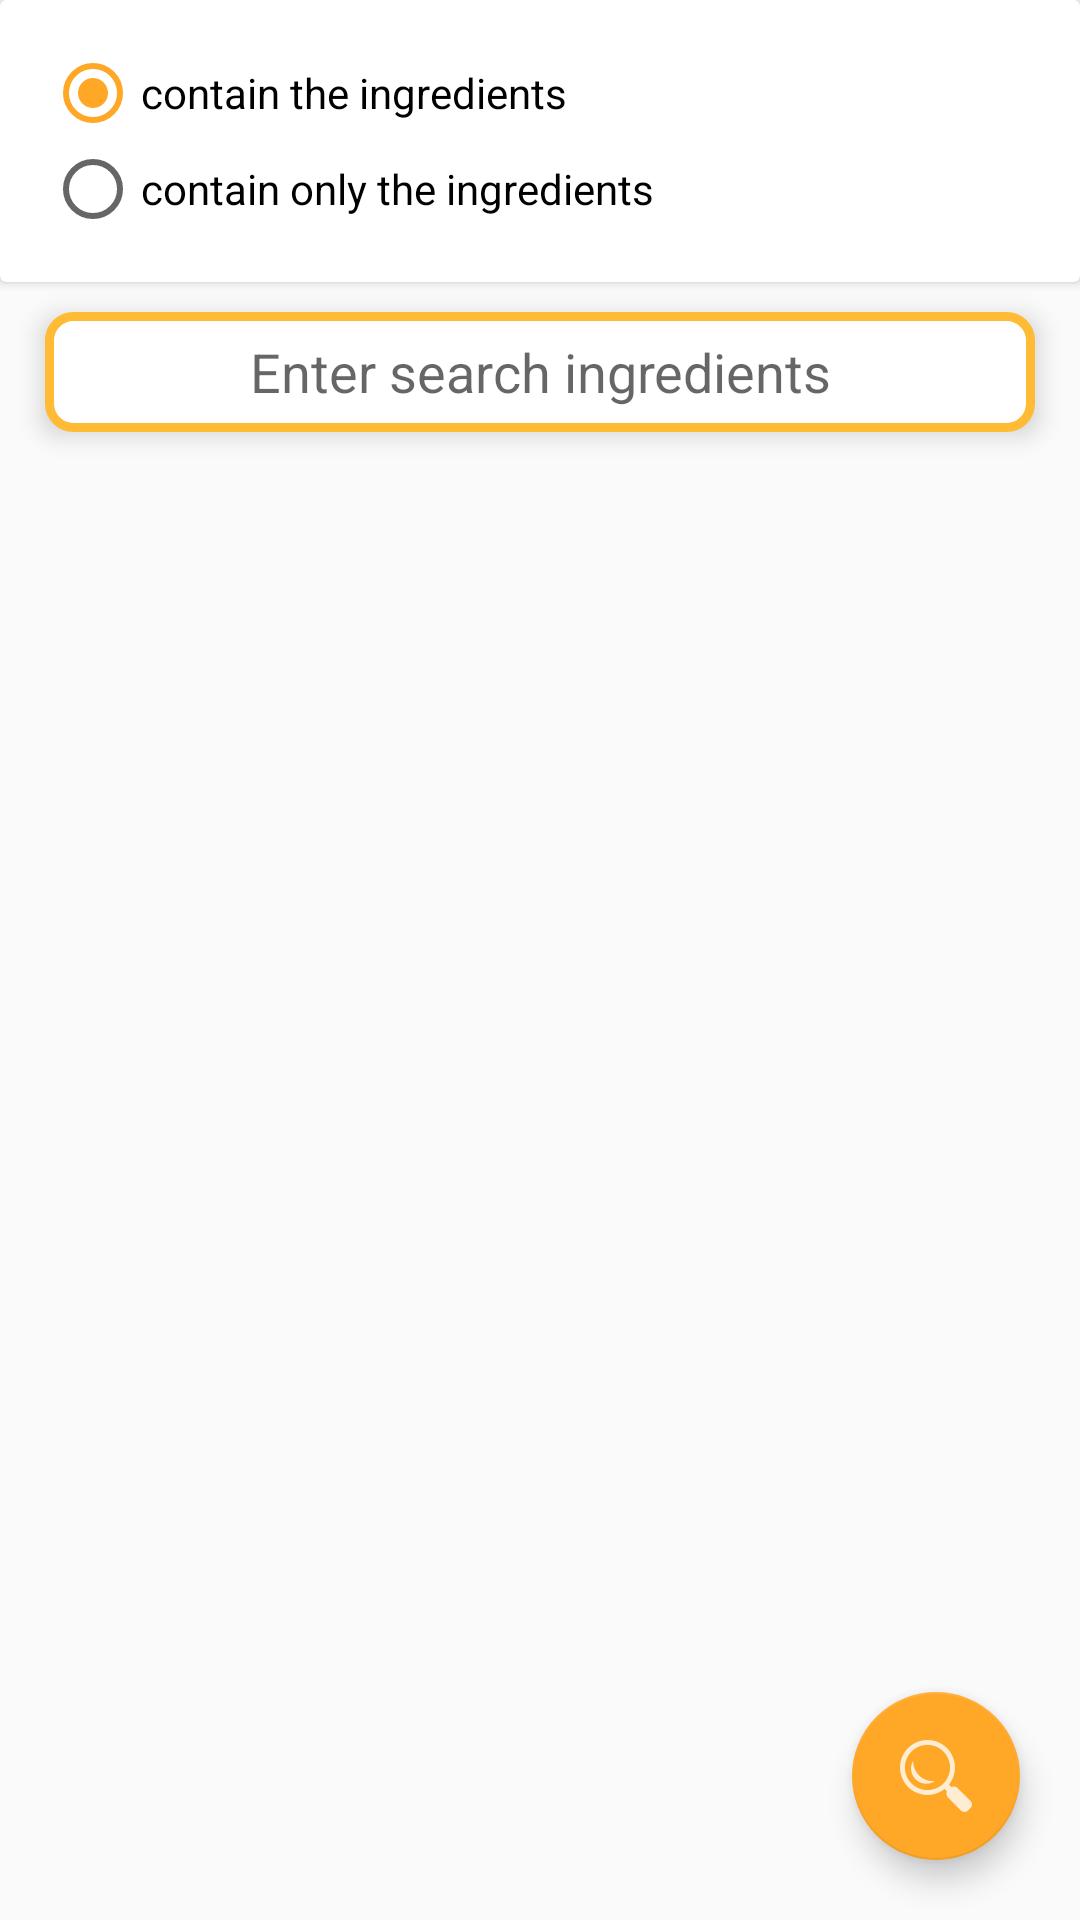

Point at icon controls on the screen. Image size 1080 × 1920, points as [x,y].
search: [936,1776]
